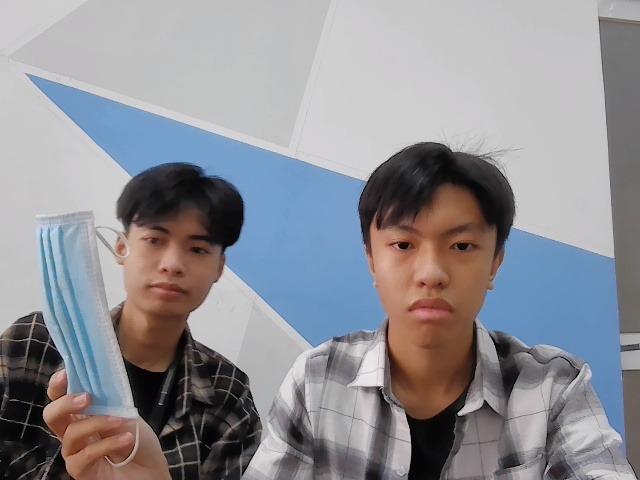human: (355, 142, 515, 352), (116, 164, 246, 322)
mask: (33, 208, 145, 420)
